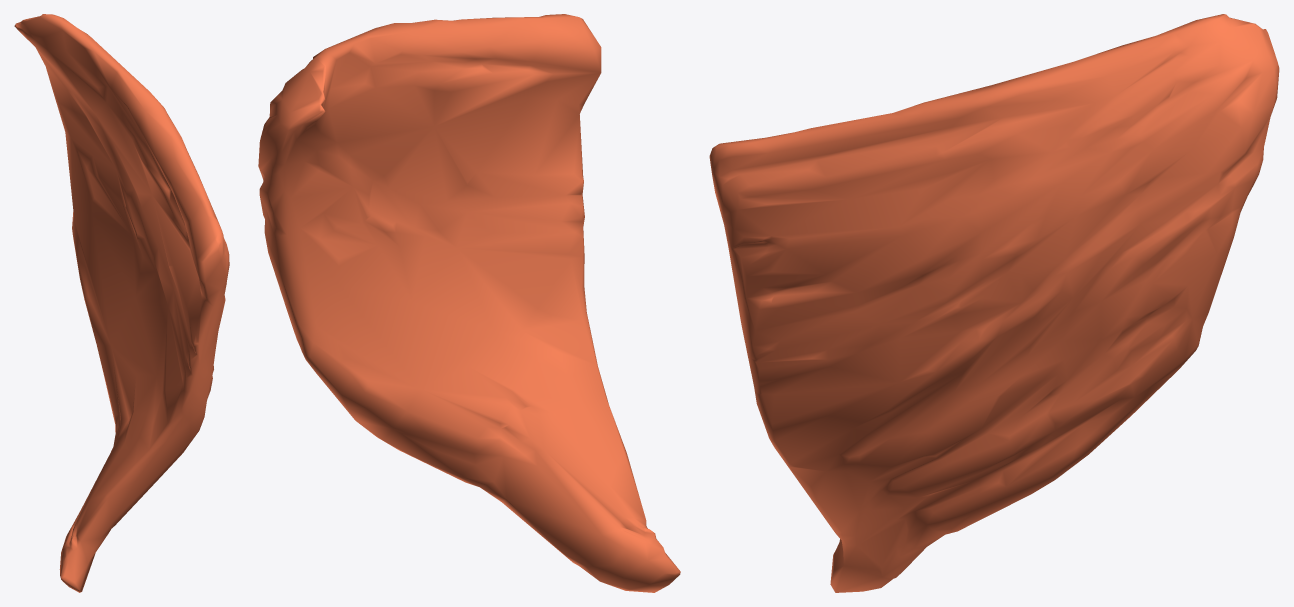
Rendered from Buccinator_left.glb.
3 views of the same model, side by side, from view 1: azimuth 30°, elevation 25°; view 2: azimuth 150°, elevation 25°; view 3: azimuth 270°, elevation 25° (orthographic). The views are drawn at different scales.
Parts seen in each view (by area): view 1: Bucinator.l_Generated_Mesh_From_X3D.999; view 2: Bucinator.l_Generated_Mesh_From_X3D.999; view 3: Bucinator.l_Generated_Mesh_From_X3D.999.
Part boxes in pixels (left/top/right/bottom): Bucinator.l_Generated_Mesh_From_X3D.999: left=14, top=14, right=229, bottom=592; Bucinator.l_Generated_Mesh_From_X3D.999: left=258, top=14, right=680, bottom=592; Bucinator.l_Generated_Mesh_From_X3D.999: left=709, top=14, right=1279, bottom=592.
Size of the model in its own units: 0.015 by 0.0363 by 0.0289.
